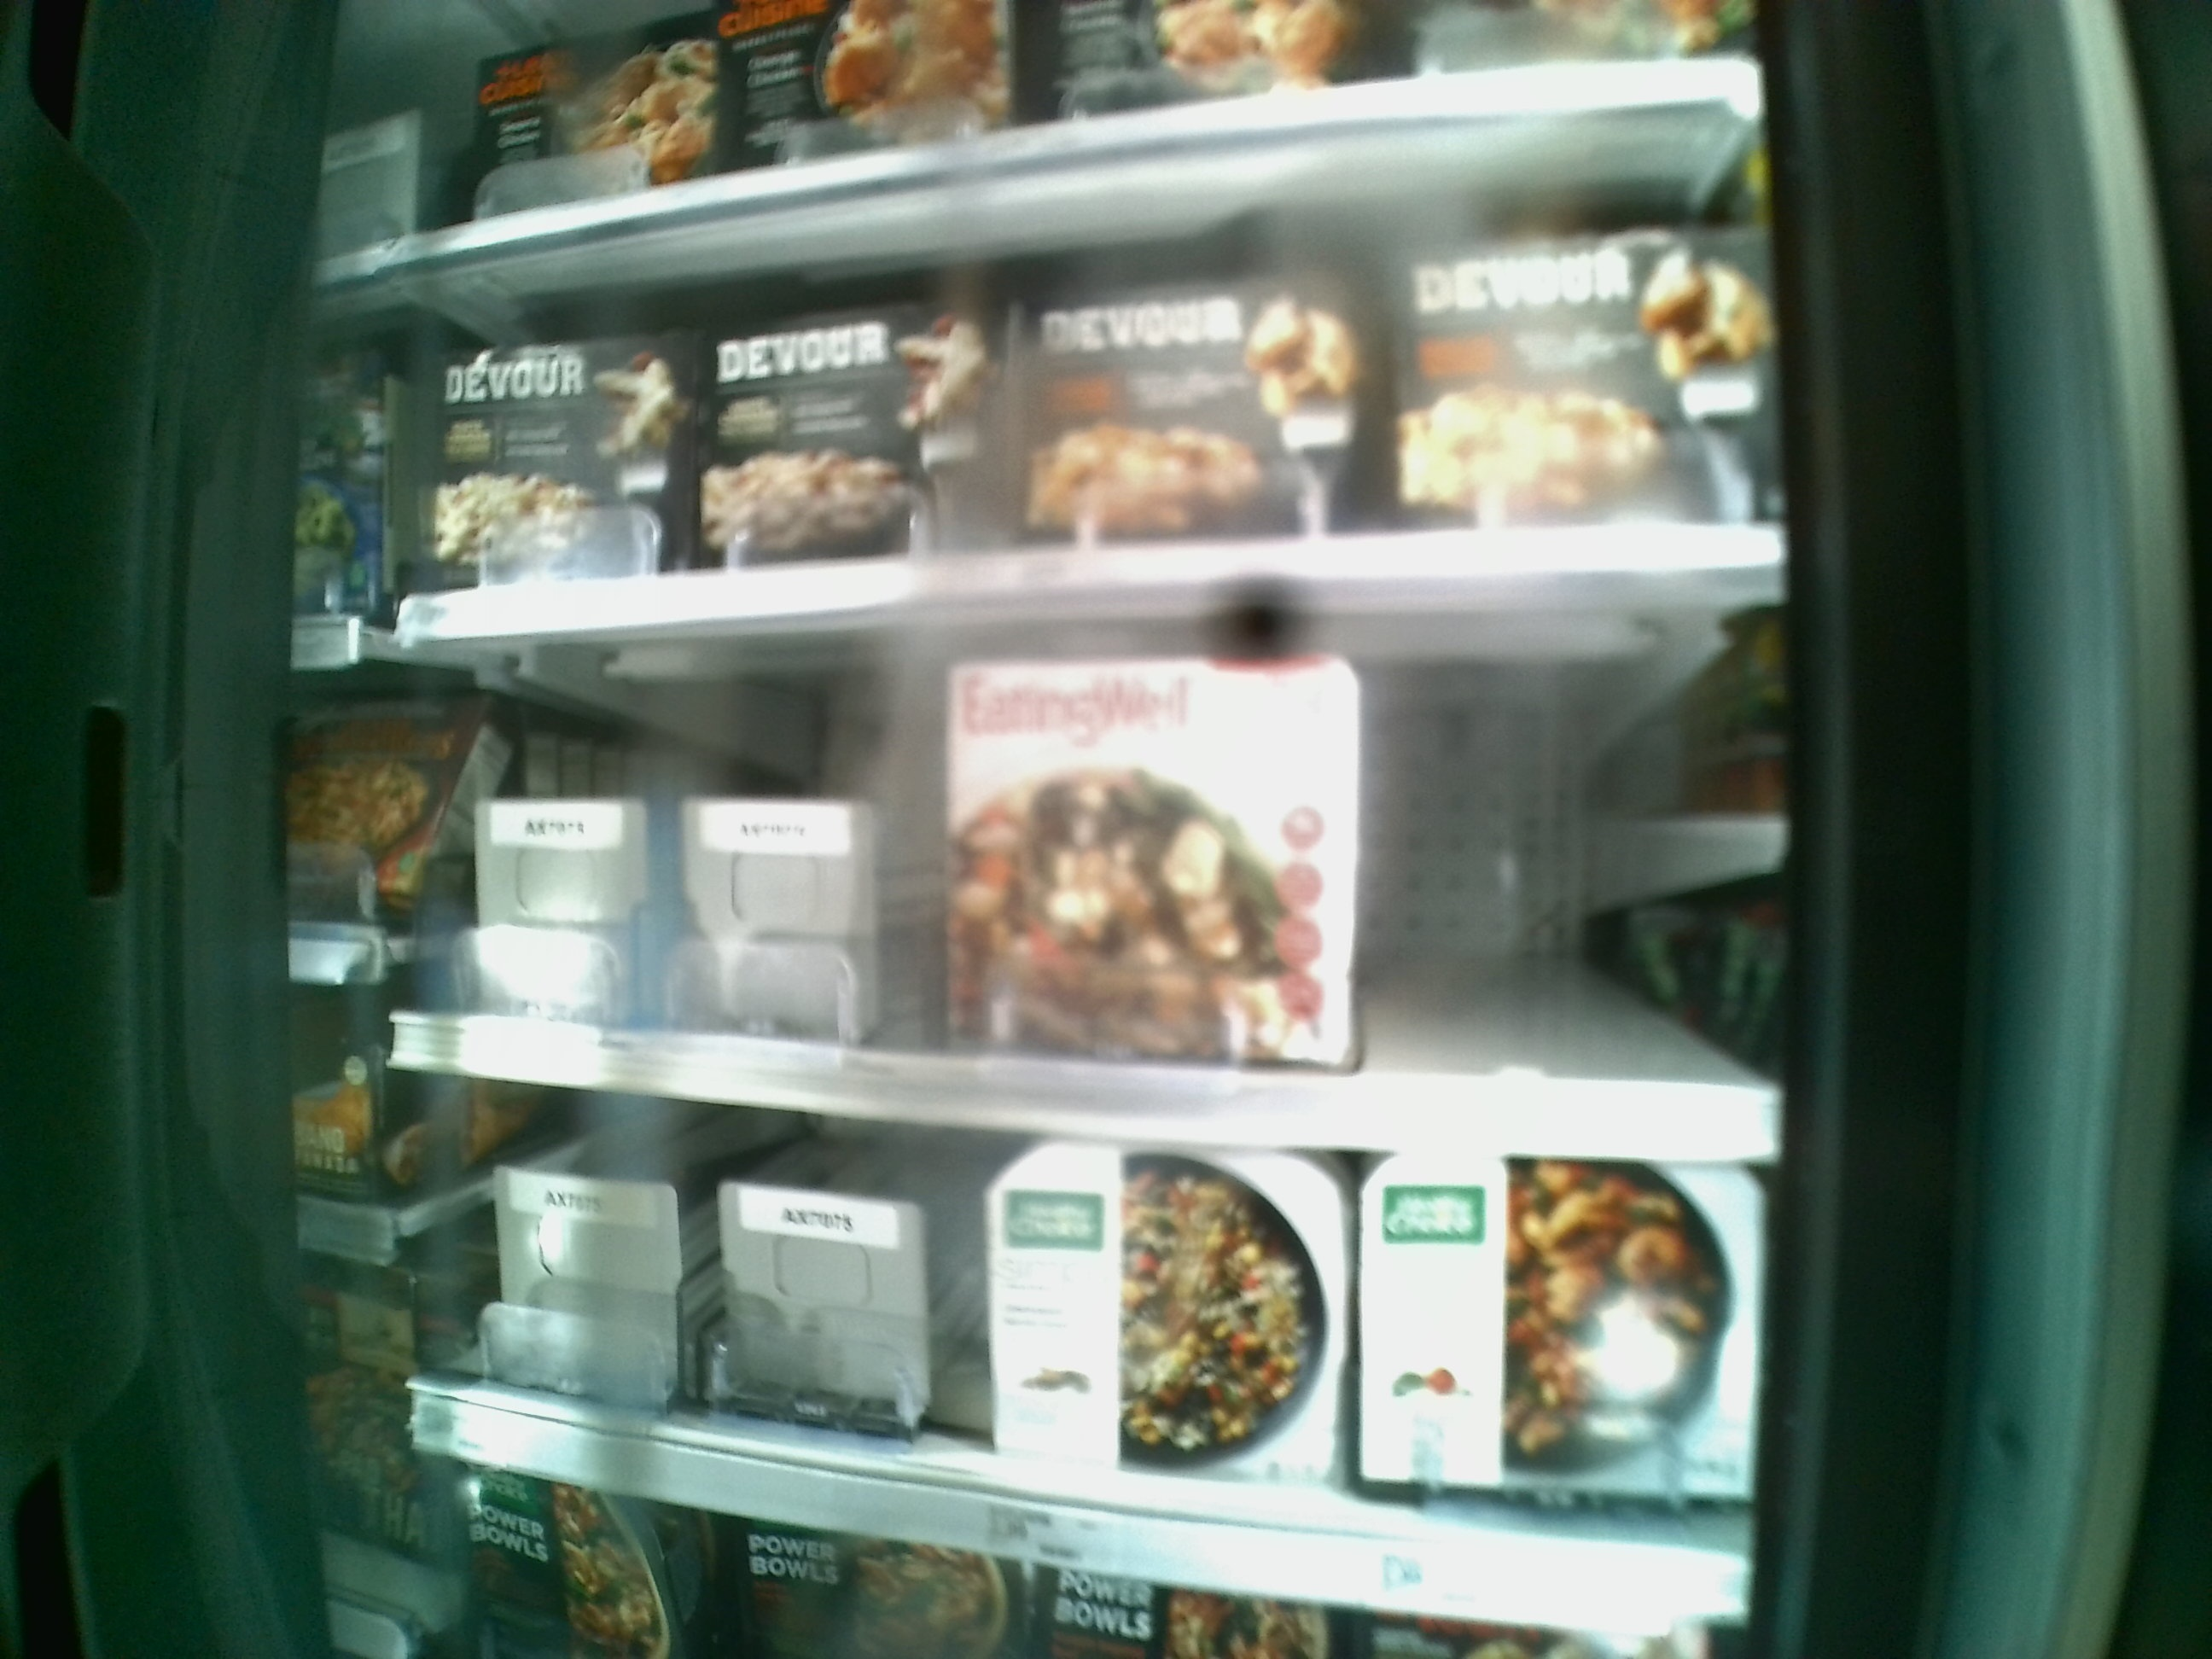Shelf: (387, 582, 1782, 1161)
